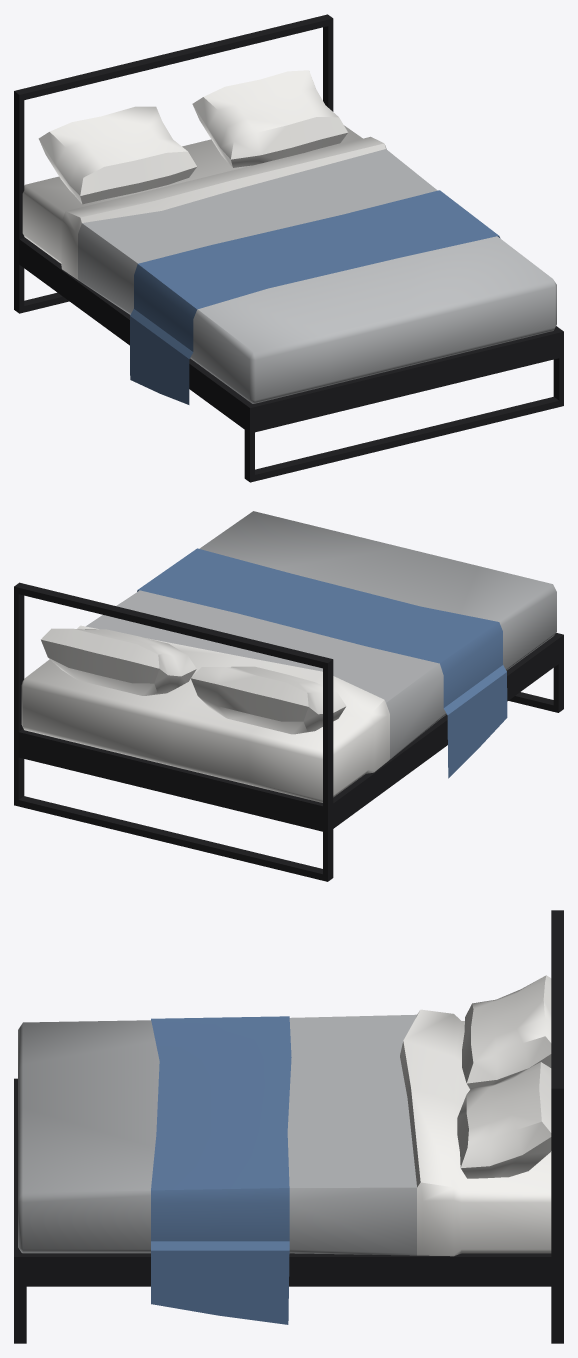
Rendered from pk_bediron_black.glb.
3 renders of one model, top to bottom at view 1: azimuth 30°, elevation 25°; view 2: azimuth 150°, elevation 25°; view 3: azimuth 270°, elevation 25°, orthographic. The views are drawn at different scales.
Visible parts, largest first — view 1: pk_bediron_black; view 2: pk_bediron_black; view 3: pk_bediron_black.
Part boxes in pixels (x1=…): pk_bediron_black: x1=14, y1=14, x2=563, y2=482; pk_bediron_black: x1=14, y1=511, x2=563, y2=881; pk_bediron_black: x1=14, y1=910, x2=563, y2=1343.
Size of the model in its own units: 1.75 by 1.15 by 2.25.
1 material, 1 textured.
